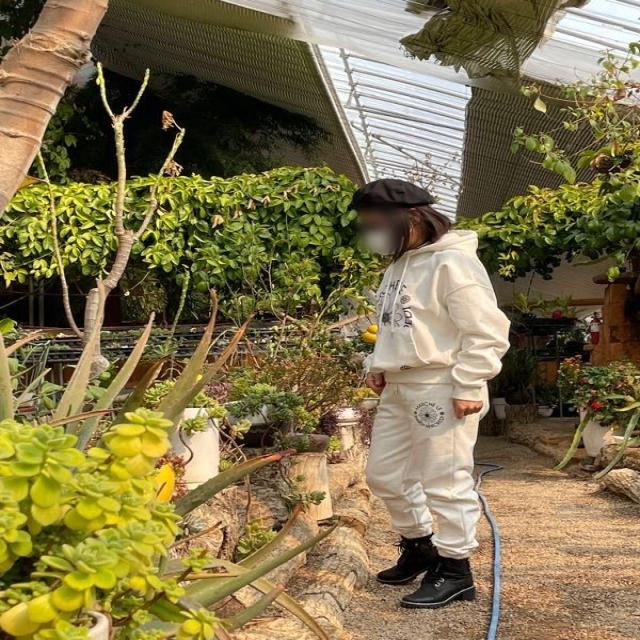hoodies: (364, 233, 509, 405)
trainingpants: (364, 360, 480, 555)
